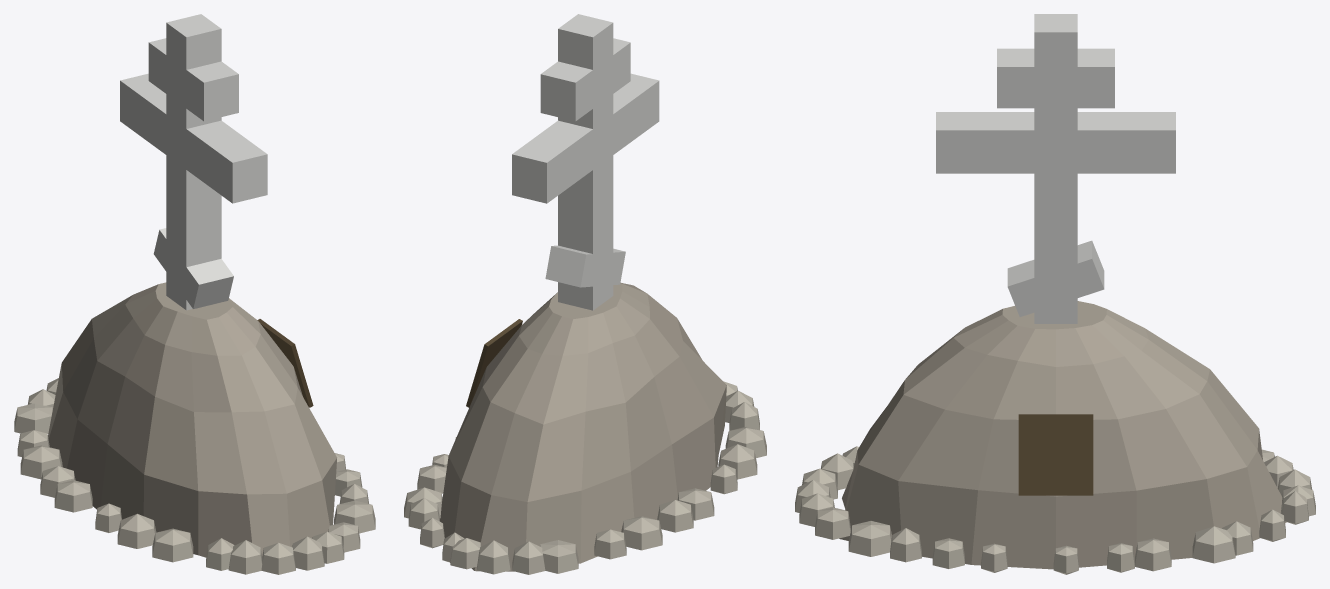
Rendered from SM_Mark_BlagCross.glb.
The picture shows the model from 3 angles, left to right: view 1: azimuth 30°, elevation 25°; view 2: azimuth 150°, elevation 25°; view 3: azimuth 270°, elevation 25°; orthographic projection. The views are drawn at different scales.
Visible parts, largest first — view 1: SM_Mark_BlagCross; view 2: SM_Mark_BlagCross; view 3: SM_Mark_BlagCross.
Boxes of the visible parts, bbox=[...] form: SM_Mark_BlagCross: bbox=[14, 14, 375, 574]; SM_Mark_BlagCross: bbox=[404, 14, 766, 574]; SM_Mark_BlagCross: bbox=[795, 14, 1315, 574].
Size of the model in its own units: 2.68 by 4.55 by 4.34.
